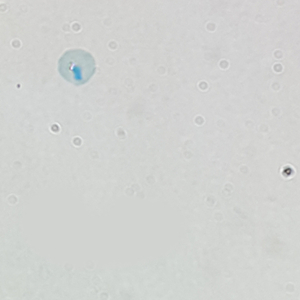erythrocyte: (55, 47, 98, 87)
